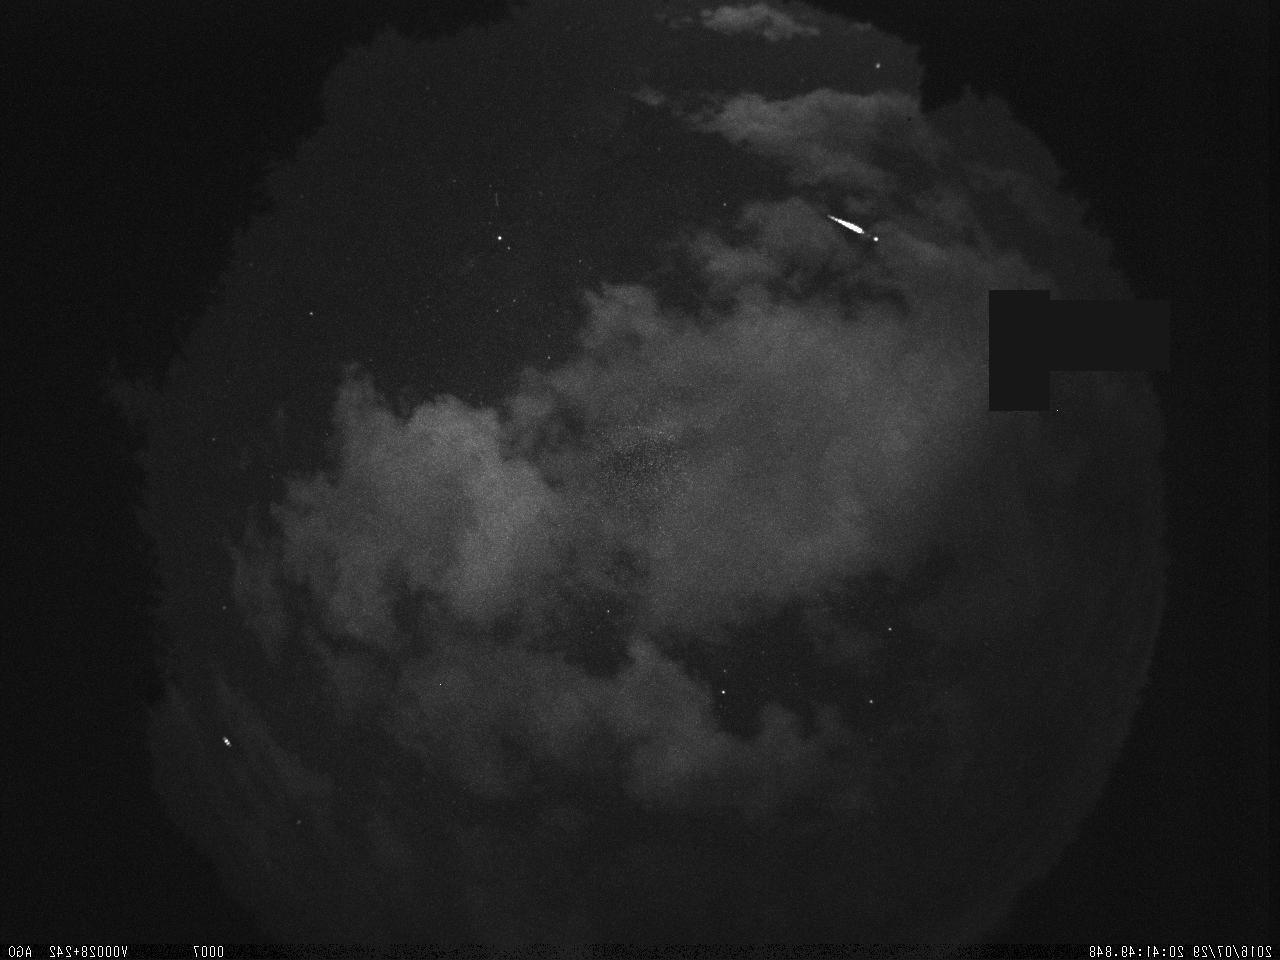meteor: (812, 206, 893, 255)
